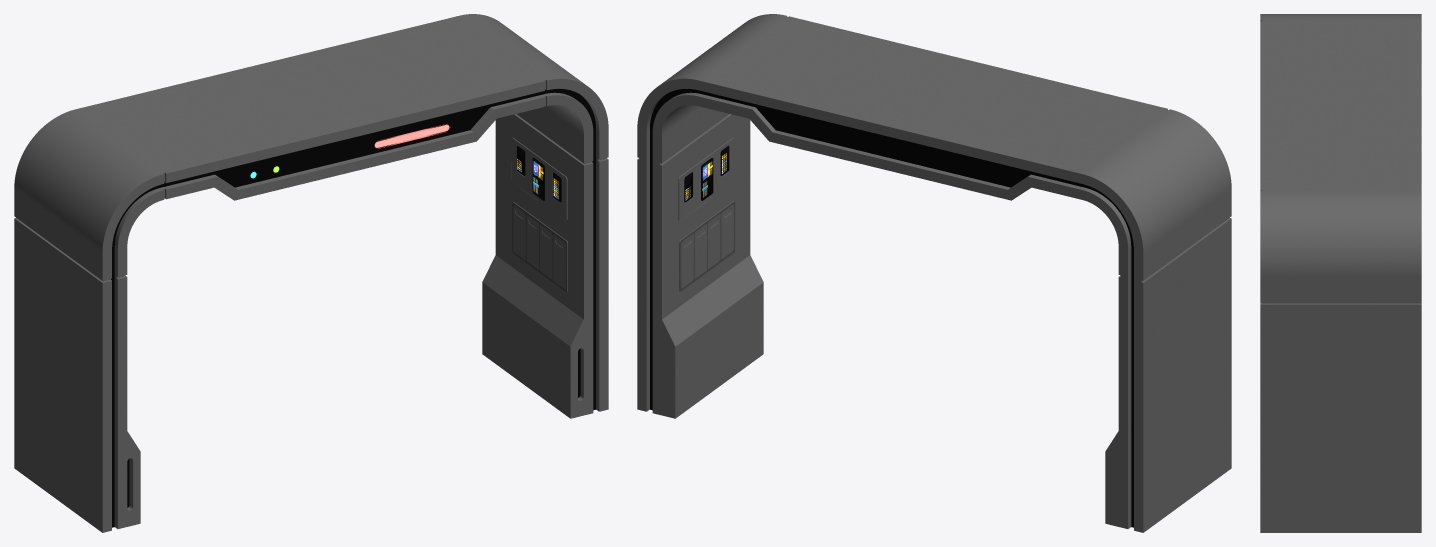
The model's file is HolodeckArch.LODs.fbx.
3 views of the same model, side by side, from view 1: azimuth 30°, elevation 25°; view 2: azimuth 150°, elevation 25°; view 3: azimuth 270°, elevation 25° (orthographic). The views are drawn at different scales.
Visible parts, largest first — view 1: Holodeck_Arch_LOD0; view 2: Holodeck_Arch_LOD0; view 3: Holodeck_Arch_LOD0.
Part boxes in pixels (x1,y1,x2,y2): Holodeck_Arch_LOD0: (14, 14, 608, 532); Holodeck_Arch_LOD0: (637, 14, 1231, 532); Holodeck_Arch_LOD0: (1260, 14, 1421, 532).
Size of what is drawn, in the model's own units: 789 by 513 by 238.
6 materials, 6 textured.
